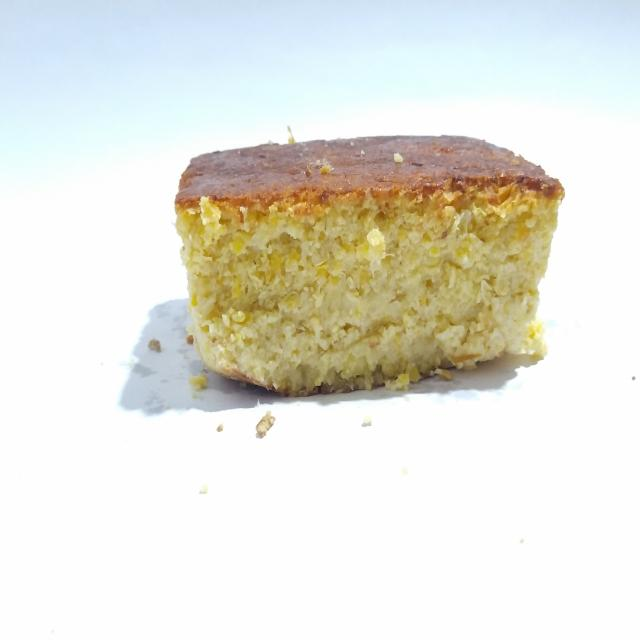Chipa_Guazu: (163, 126, 570, 403)
